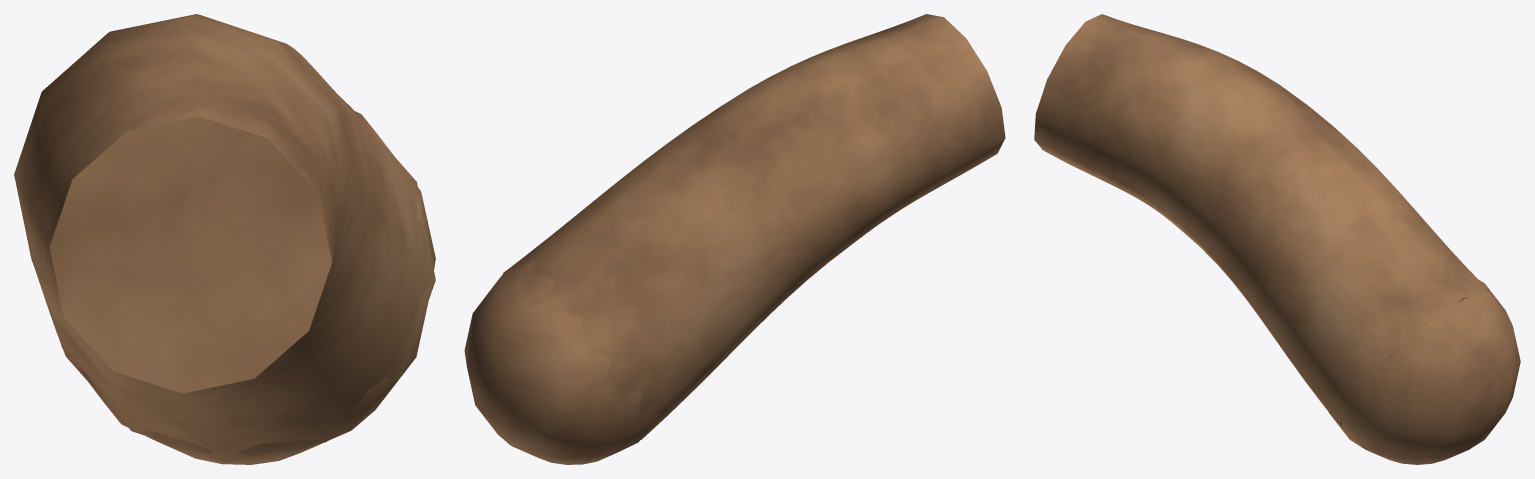
Rendered from headcrab_muslo_del_der.obj.
3 views of the same model, side by side, from view 1: azimuth 30°, elevation 25°; view 2: azimuth 150°, elevation 25°; view 3: azimuth 270°, elevation 25° (orthographic). The views are drawn at different scales.
Parts seen in each view (by area): view 1: muslo_del_der; view 2: muslo_del_der; view 3: muslo_del_der.
Part boxes in pixels (box(x1,y1,x2,y2)): muslo_del_der: box(14, 14, 435, 464); muslo_del_der: box(464, 14, 1005, 464); muslo_del_der: box(1034, 14, 1520, 464).
Size of the model in its own units: 0.1386 by 0.1312 by 0.1693.
